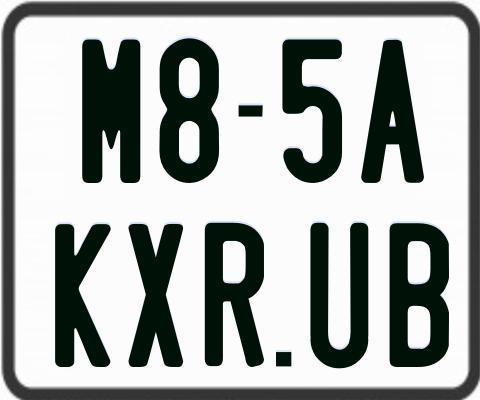5: (282, 38, 346, 187)
8: (158, 38, 223, 183)
A: (361, 37, 425, 180)
B: (388, 220, 448, 364)
K: (52, 221, 113, 365)
M: (81, 37, 143, 181)
R: (205, 223, 269, 372)
U: (307, 222, 369, 372)
X: (127, 223, 185, 368)
